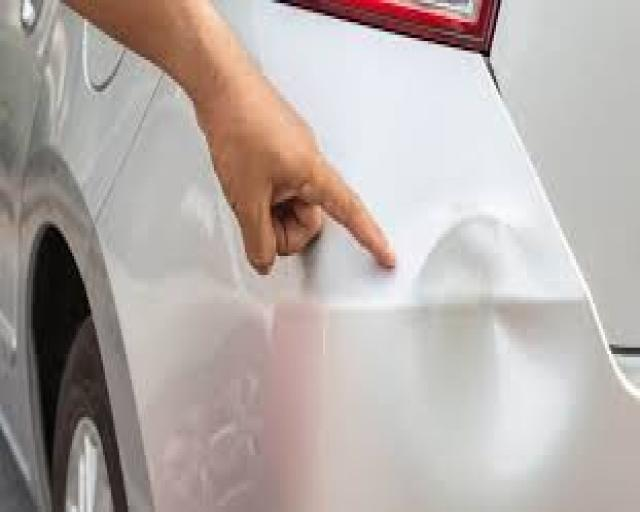dent: (411, 193, 609, 488)
